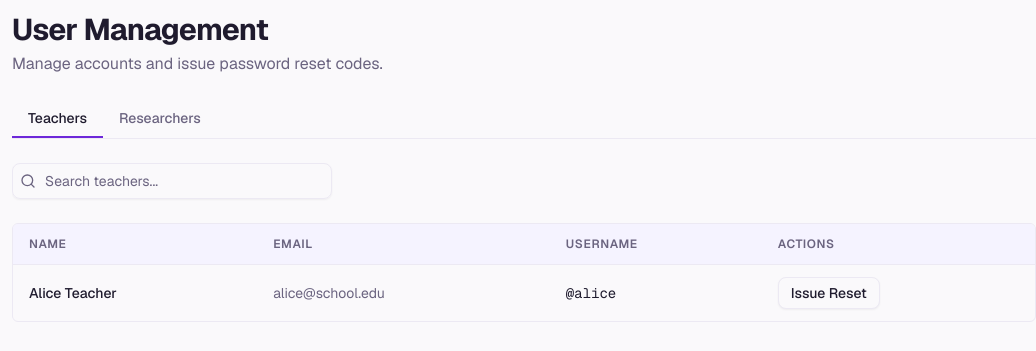
Test case: StaffManagementView › shows no researchers message when empty
The width and height of the screenshot is (1036, 351).
Expected: the text "Alice Teacher" is shown, left=13, top=264, right=257, bottom=321
Step 1. Click the button "Researchers" → point(160, 119), box left=103, top=100, right=217, bottom=138
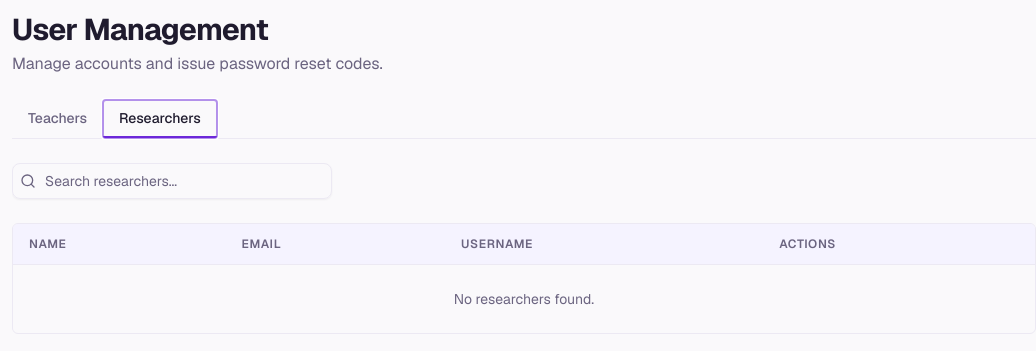
Expected: the text "No researchers found." is shown, left=13, top=264, right=1035, bottom=333
